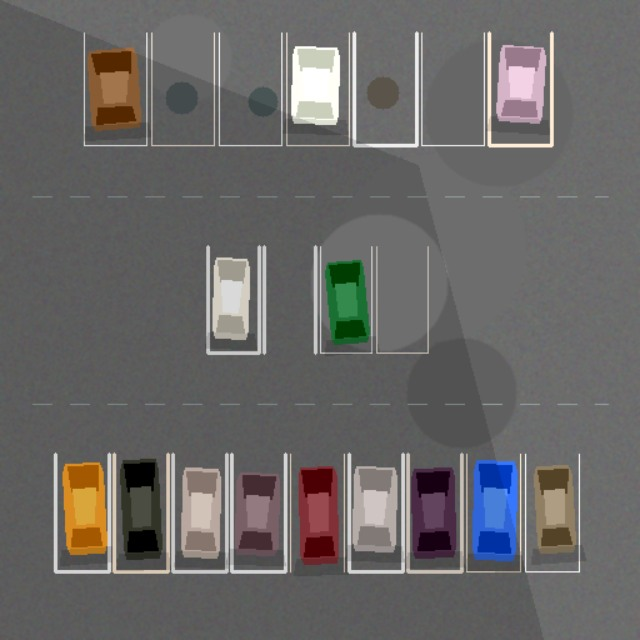space-empty: (151, 33, 214, 145), (421, 33, 484, 145), (219, 33, 281, 145), (354, 33, 416, 145), (376, 246, 428, 352), (264, 246, 315, 352)
space-occupied: (286, 33, 349, 145), (84, 33, 146, 145), (489, 33, 551, 145), (55, 454, 109, 571), (114, 454, 168, 571), (172, 454, 226, 571), (231, 454, 285, 571), (290, 454, 344, 571), (466, 454, 520, 571), (525, 454, 579, 571), (349, 454, 402, 571), (408, 454, 461, 571), (208, 246, 259, 352), (320, 246, 371, 352)
